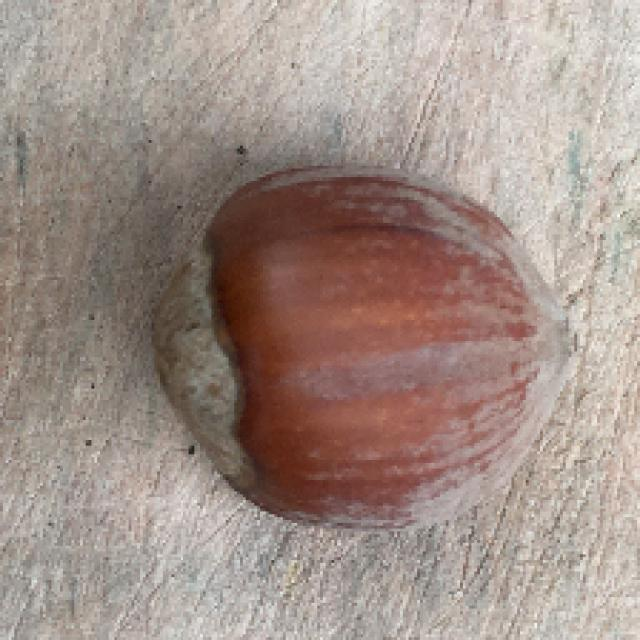qualityHazelnut: (149, 163, 577, 536)
